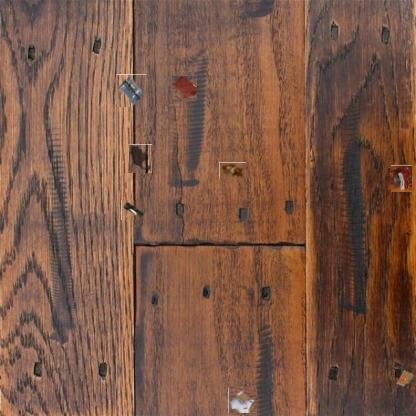dirty: (116, 74, 146, 107), (229, 387, 256, 414), (389, 167, 414, 191), (121, 200, 144, 220), (219, 162, 246, 179), (394, 368, 416, 388)
liquid: (128, 144, 152, 173), (171, 75, 197, 101)
